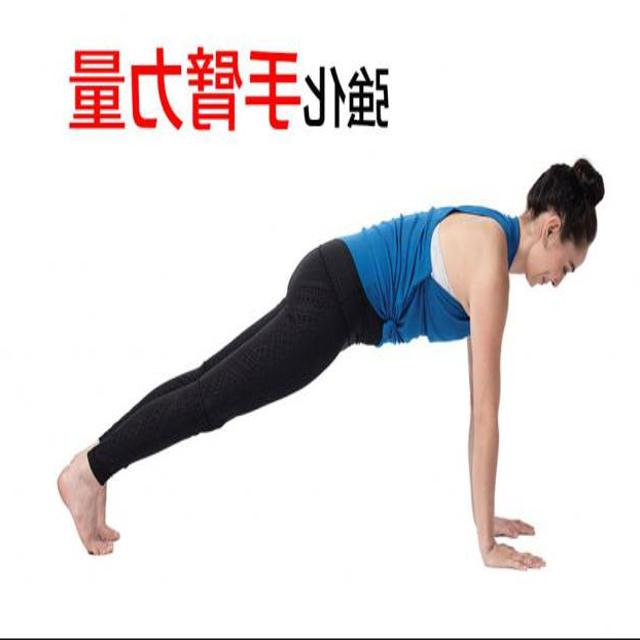Plank_Pose: (50, 147, 609, 577)
